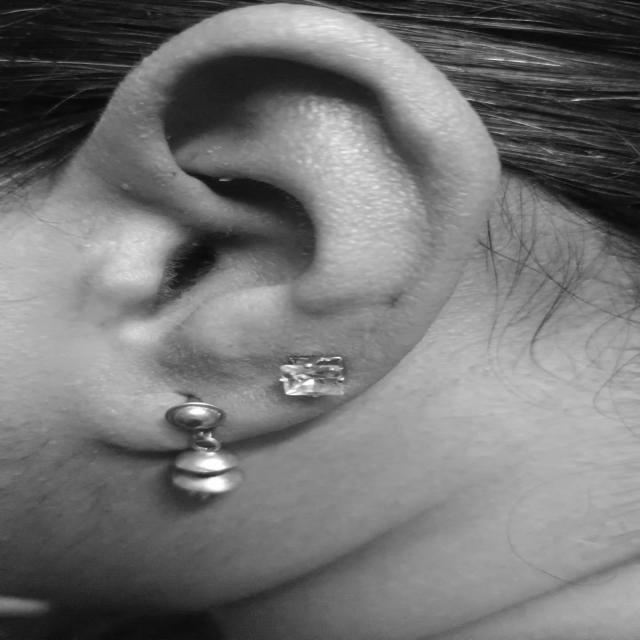ear: (60, 4, 499, 440), (105, 412, 182, 448), (90, 395, 105, 410), (130, 388, 138, 398), (117, 388, 125, 395), (97, 388, 103, 396), (173, 395, 181, 400), (105, 328, 106, 330)
